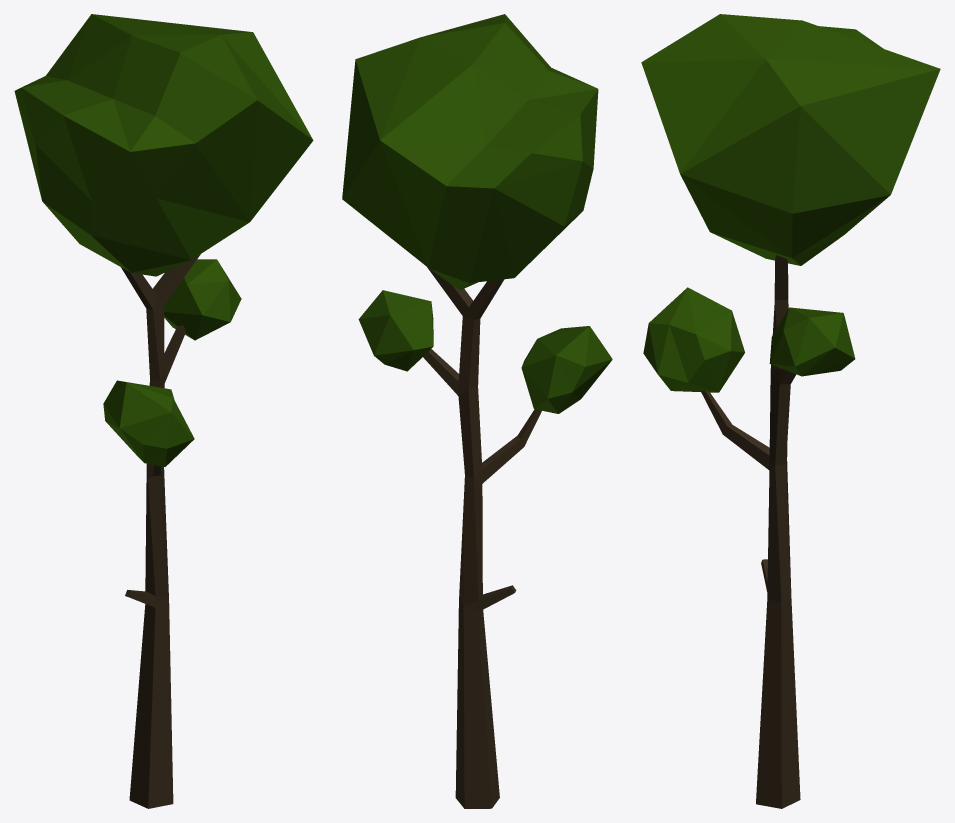
The model's file is Forest_C_Tree_08.fbx.
3 views of the same model, side by side, from view 1: azimuth 30°, elevation 25°; view 2: azimuth 150°, elevation 25°; view 3: azimuth 270°, elevation 25° (orthographic). The views are drawn at different scales.
Visible parts, largest first — view 1: Forest_C_Tree_08; view 2: Forest_C_Tree_08; view 3: Forest_C_Tree_08.
Boxes of the visible parts, bbox=[...] form: Forest_C_Tree_08: bbox=[14, 14, 313, 808]; Forest_C_Tree_08: bbox=[342, 14, 612, 808]; Forest_C_Tree_08: bbox=[641, 14, 940, 808].
Size of the model in its own units: 183 by 595 by 206.
